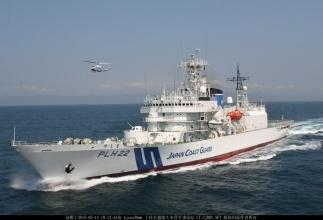airplane: (75, 56, 123, 80)
warship: (7, 49, 296, 185)
